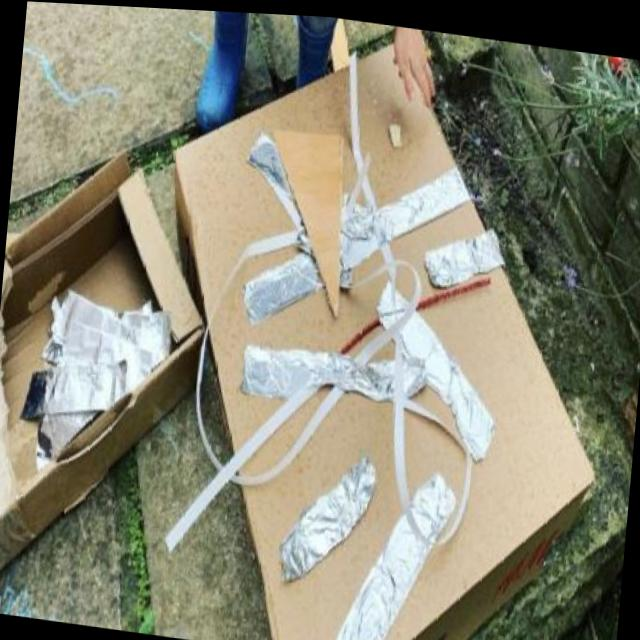box: (131, 5, 640, 640), (0, 130, 221, 632)
